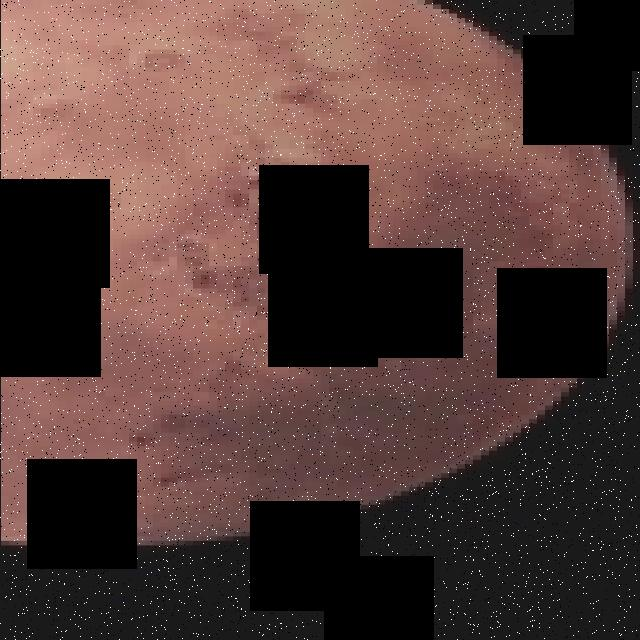Mars: (0, 0, 624, 545)
